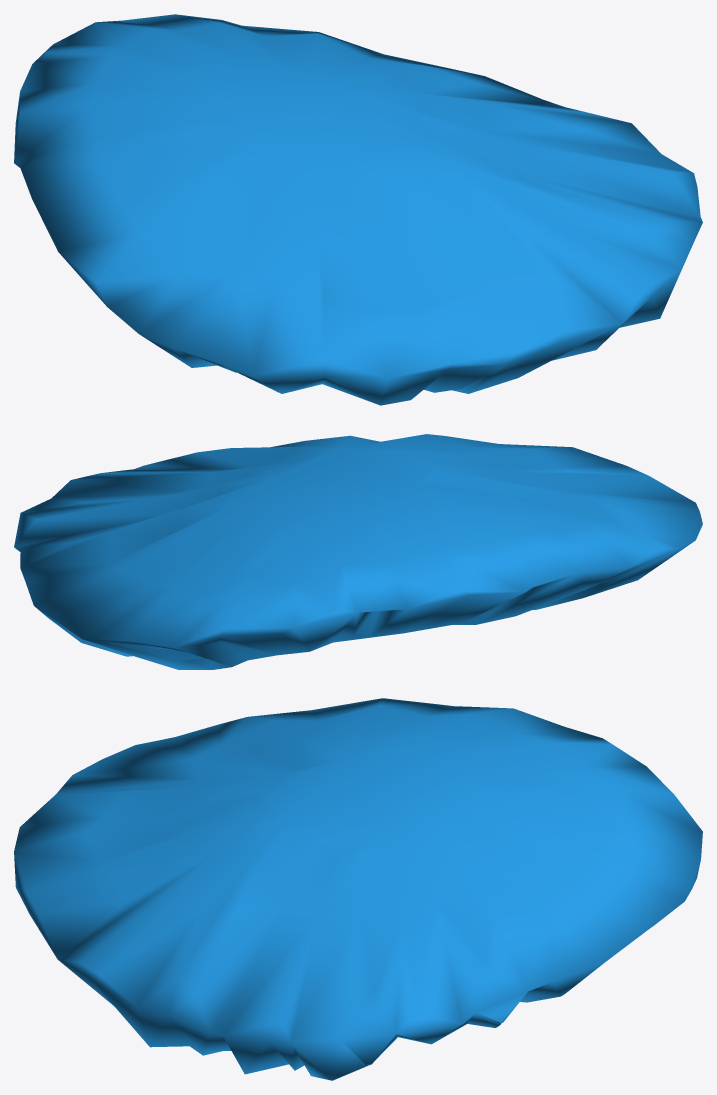
File: SM_flat_mushroom_03.fbx
The picture shows the model from 3 angles, top to bottom: view 1: azimuth 30°, elevation 25°; view 2: azimuth 150°, elevation 25°; view 3: azimuth 270°, elevation 25°; orthographic projection. The views are drawn at different scales.
Visible parts, largest first — view 1: flat_mushroom_03; view 2: flat_mushroom_03; view 3: flat_mushroom_03.
Boxes of the visible parts, <box> form: flat_mushroom_03: <box>14,14,702,405</box>; flat_mushroom_03: <box>14,434,702,669</box>; flat_mushroom_03: <box>14,698,702,1080</box>.
Size of the model in its own units: 448 by 144 by 476.
